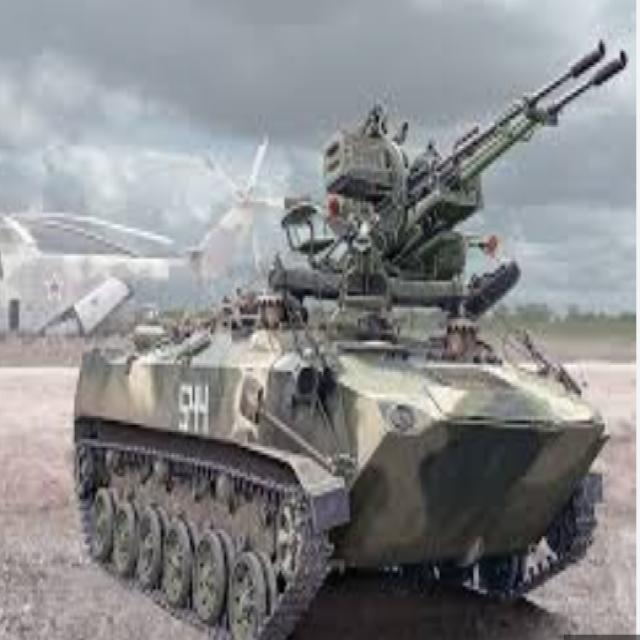MIL_APC: (67, 146, 603, 636)
